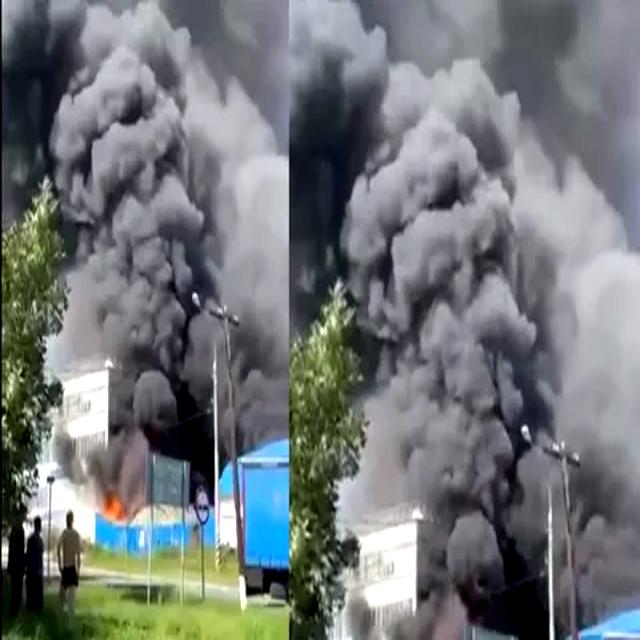Smoke: (291, 2, 636, 621), (1, 0, 285, 440)
